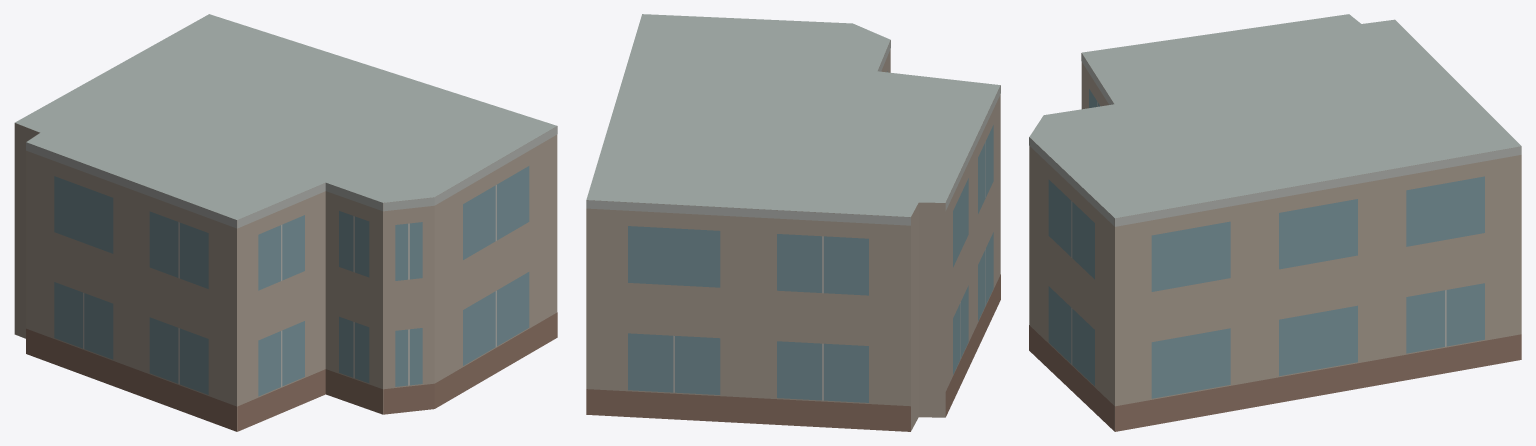
Rendered from survey-upis-32919041.glb.
3 renders of one model, left to right at view 1: azimuth 30°, elevation 25°; view 2: azimuth 150°, elevation 25°; view 3: azimuth 270°, elevation 25°, orthographic.
Parts seen in each view (by area): view 1: survey-upis-32919041.tmp; view 2: survey-upis-32919041.tmp; view 3: survey-upis-32919041.tmp.
Part boxes in pixels (left/top/right/bottom): survey-upis-32919041.tmp: left=14, top=14, right=557, bottom=431; survey-upis-32919041.tmp: left=586, top=14, right=1000, bottom=431; survey-upis-32919041.tmp: left=1029, top=14, right=1521, bottom=431.
Bounding box in the file's own units: 12.53 × 6.1 × 12.76.
